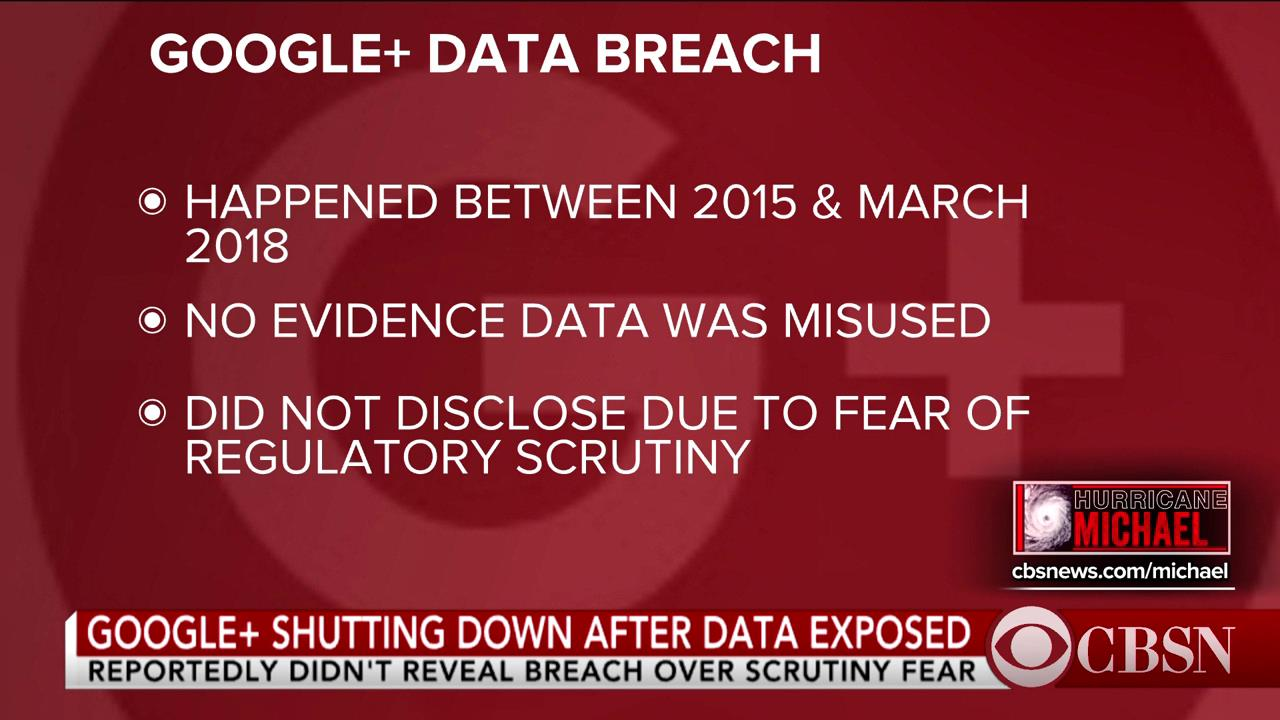2018: (179, 227, 295, 265)
CBSN: (1076, 622, 1240, 676)
DID NOT DISCLOSE DUE TO FEAR OF: (182, 392, 1035, 431)
GOOGLE+ DATA BREACH: (146, 30, 826, 76)
GOOGLE+ SHUTTING DOWN AFTER DATA EXPOSED: (84, 611, 973, 650)
HAPPENED BETWEEN 2015 & MARCH: (181, 181, 1034, 223)
HURRICANE: (1072, 486, 1228, 511)
MICHAEL: (1072, 510, 1210, 549)
NO EVIDENCE DATA WAS MISUSED: (184, 300, 994, 342)
REGULATORY SCRUNTINY: (182, 438, 752, 477)
REPORTEDLY DIDN'T REVEAL BREACH OVER SCRUTINY FEAR: (86, 656, 978, 684)
cbsnews.com/michael: (1010, 562, 1231, 581)
